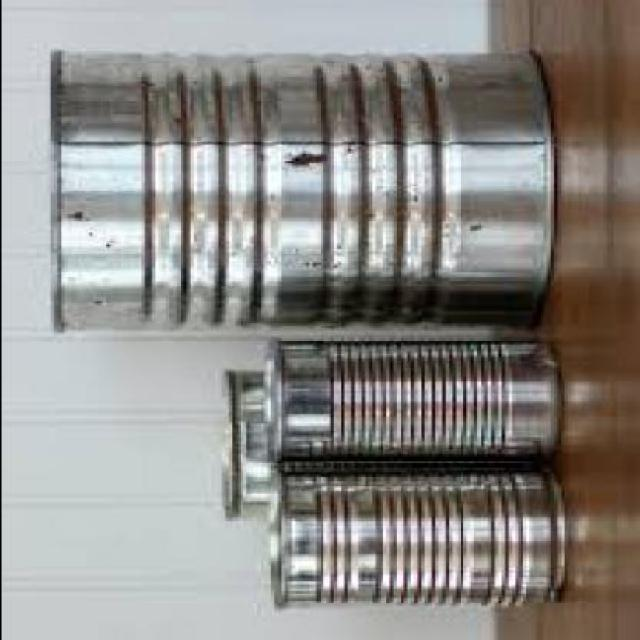METAL: (45, 56, 549, 333), (266, 461, 563, 610), (259, 344, 563, 465), (221, 370, 276, 521)
